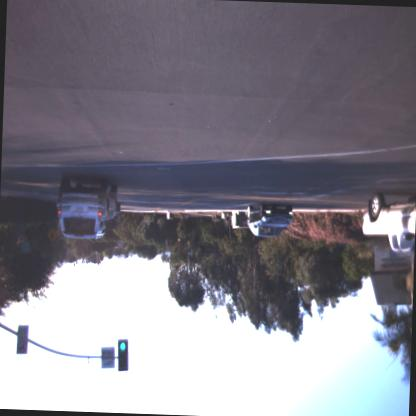trafficlight: (117, 338, 130, 372)
